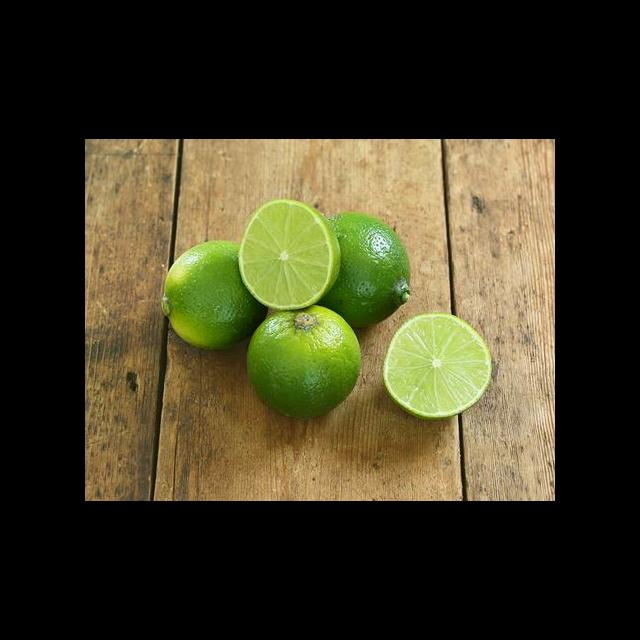lime: (289, 208, 416, 334), (243, 295, 364, 423), (155, 234, 271, 354)
